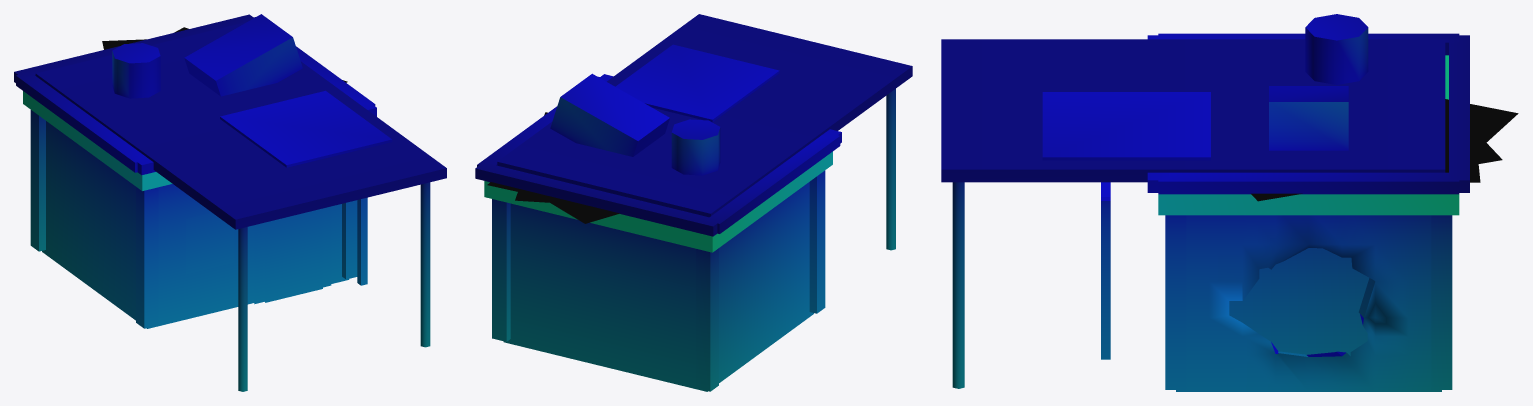
The model's file is singlecivlivingd_damaged.glb.
The picture shows the model from 3 angles, left to right: view 1: azimuth 30°, elevation 25°; view 2: azimuth 150°, elevation 25°; view 3: azimuth 270°, elevation 25°; orthographic projection. The views are drawn at different scales.
Parts seen in each view (by area): view 1: lod0; view 2: lod0; view 3: lod0.
Boxes of the visible parts, x1,y1,x2,y2 form: lod0: [14, 14, 446, 391]; lod0: [475, 14, 912, 391]; lod0: [941, 14, 1518, 391].
Size of what is drawn, in the model's own units: 5.26 by 4.38 by 8.25.
